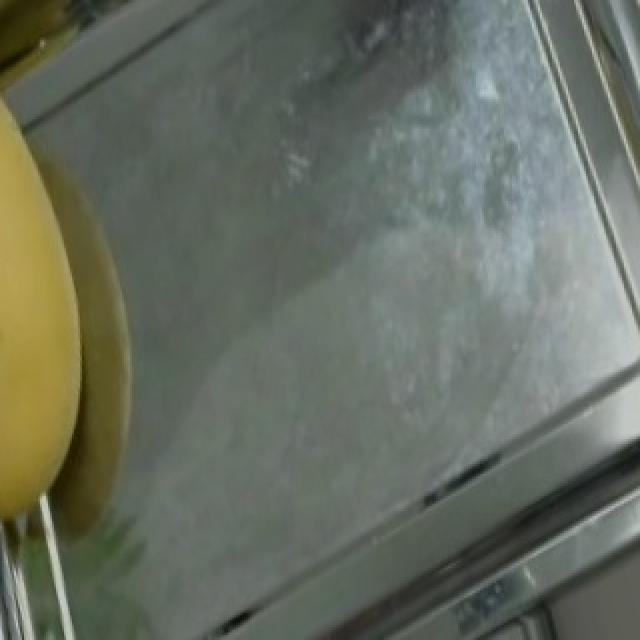fruit: (0, 221, 124, 543)
